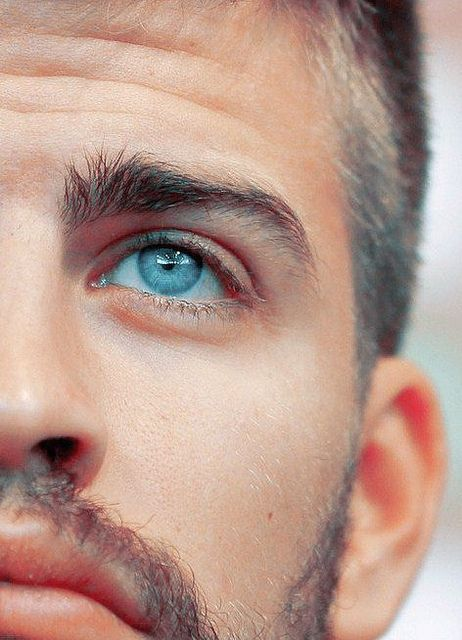iris: (138, 242, 203, 296)
pupil: (159, 254, 176, 270)
